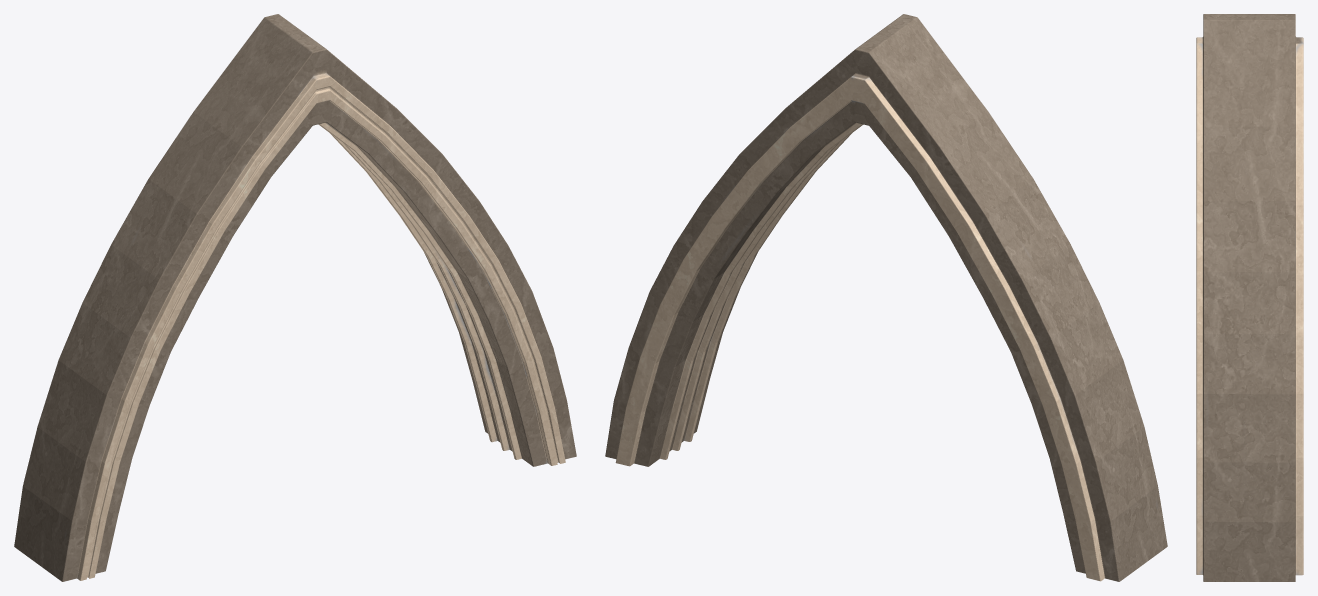
File: Arch.fbx
3 renders of one model, left to right at view 1: azimuth 30°, elevation 25°; view 2: azimuth 150°, elevation 25°; view 3: azimuth 270°, elevation 25°, orthographic. The views are drawn at different scales.
Visible parts, largest first — view 1: Cube.010; view 2: Cube.010; view 3: Cube.010.
Boxes of the visible parts, bbox=[...] form: Cube.010: bbox=[14, 14, 576, 581]; Cube.010: bbox=[605, 14, 1167, 581]; Cube.010: bbox=[1196, 14, 1303, 581].
Size of the model in its own units: 355 by 309 by 67.22.
